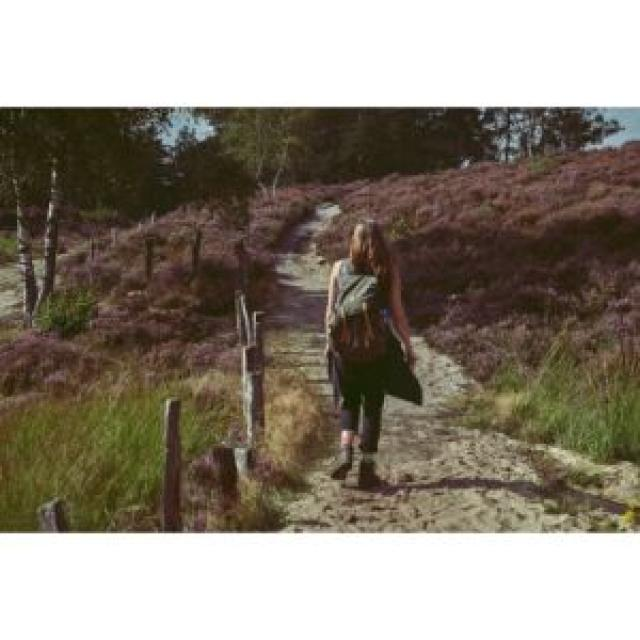nonfall: (292, 215, 432, 508)
